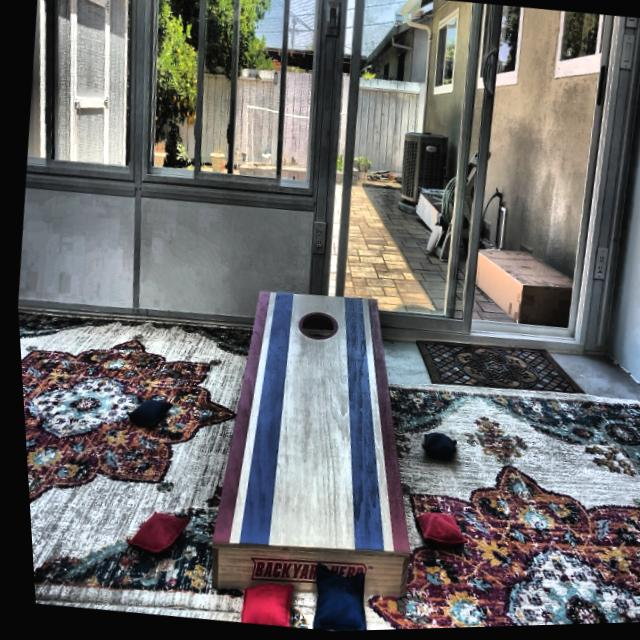blue-bean-bag: (301, 564, 366, 634), (120, 395, 168, 431), (415, 431, 453, 464)
board: (220, 288, 394, 558)
hole: (291, 309, 336, 345)
red-bean-bag: (115, 507, 185, 558), (227, 578, 289, 629), (405, 511, 463, 551)
